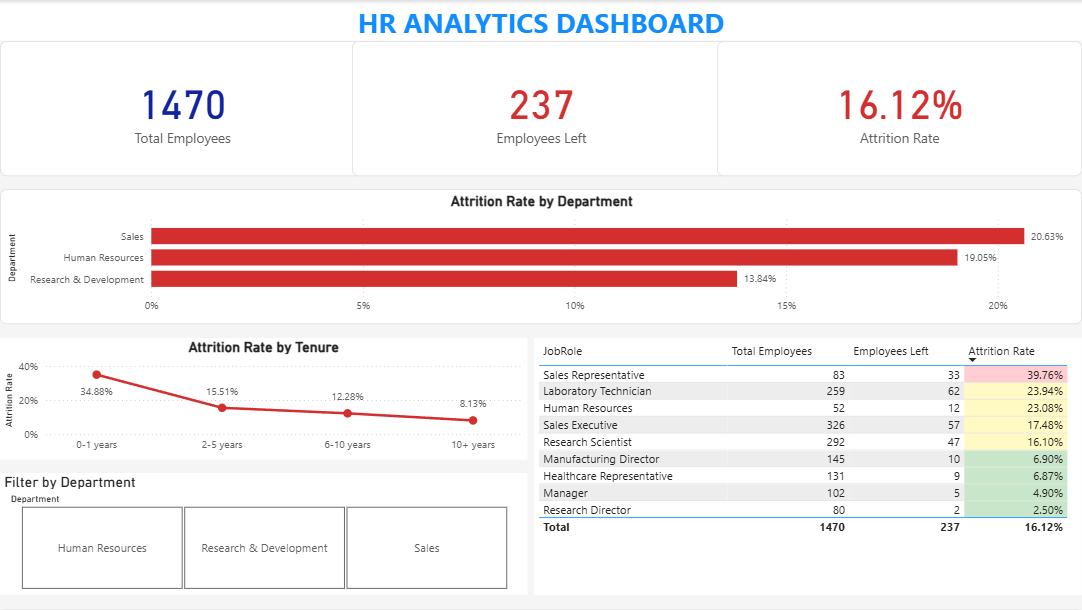

This screenshot's page, from the dashboard's own definition file:
{"tool":"powerbi","page":{"name":"Page 1","canvas":[1280,720],"ordinal":0},"visuals":[{"type":"textbox","box":[0,0,1280,48],"z":0},{"type":"card","fields":{"Values":["employees.Total Employees"]},"box":[0,48,432,160],"z":1000},{"type":"card","fields":{"Values":["employees.Employees Left"]},"box":[416,48,448,160],"z":2000},{"type":"card","fields":{"Values":["employees.Attrition Rate"]},"box":[848,48,432,160],"z":3000},{"type":"clusteredBarChart","fields":{"Category":["employees.Department"],"Y":["employees.Attrition Rate"]},"box":[0,224,1280,160],"z":4000},{"type":"lineChart","title":"Attrition Rate by Tenure","fields":{"Category":["employees.Tenure Group"],"Y":["employees.Attrition Rate"]},"box":[0,400,624,144],"z":5000},{"type":"tableEx","fields":{"Values":["employees.JobRole","employees.Total Employees","employees.Employees Left","employees.Attrition Rate"]},"box":[632,400,648,304],"z":6000},{"type":"slicer","title":"Filter by Department","fields":{"Values":["employees.Department"]},"box":[0,560,624,144],"z":7000},{"type":"actionButton","title":"HR ANALYTICS DASHBOARD","box":[0,0,1280,48],"z":8000}]}

Visuals, with their boxes in screenshot pixels (x1, y1, x2, y2), scaled from the page's 1280x720 canvas onto the 1082x610 screenshot:
textbox: x1=0 y1=0 x2=1081 y2=41
card - employees.Total Employees: x1=0 y1=41 x2=365 y2=176
card - employees.Employees Left: x1=352 y1=41 x2=730 y2=176
card - employees.Attrition Rate: x1=717 y1=41 x2=1081 y2=176
clusteredBarChart - employees.Department x employees.Attrition Rate: x1=0 y1=190 x2=1081 y2=325
"Attrition Rate by Tenure" lineChart: x1=0 y1=339 x2=527 y2=461
tableEx - employees.JobRole x employees.Total Employees: x1=534 y1=339 x2=1081 y2=596
"Filter by Department" slicer: x1=0 y1=474 x2=527 y2=596
"HR ANALYTICS DASHBOARD" actionButton: x1=0 y1=0 x2=1081 y2=41
